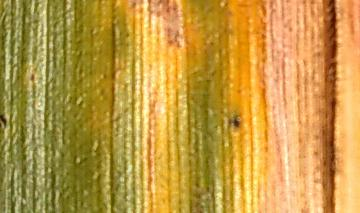tarspot: (231, 115, 242, 130), (1, 111, 9, 128)
